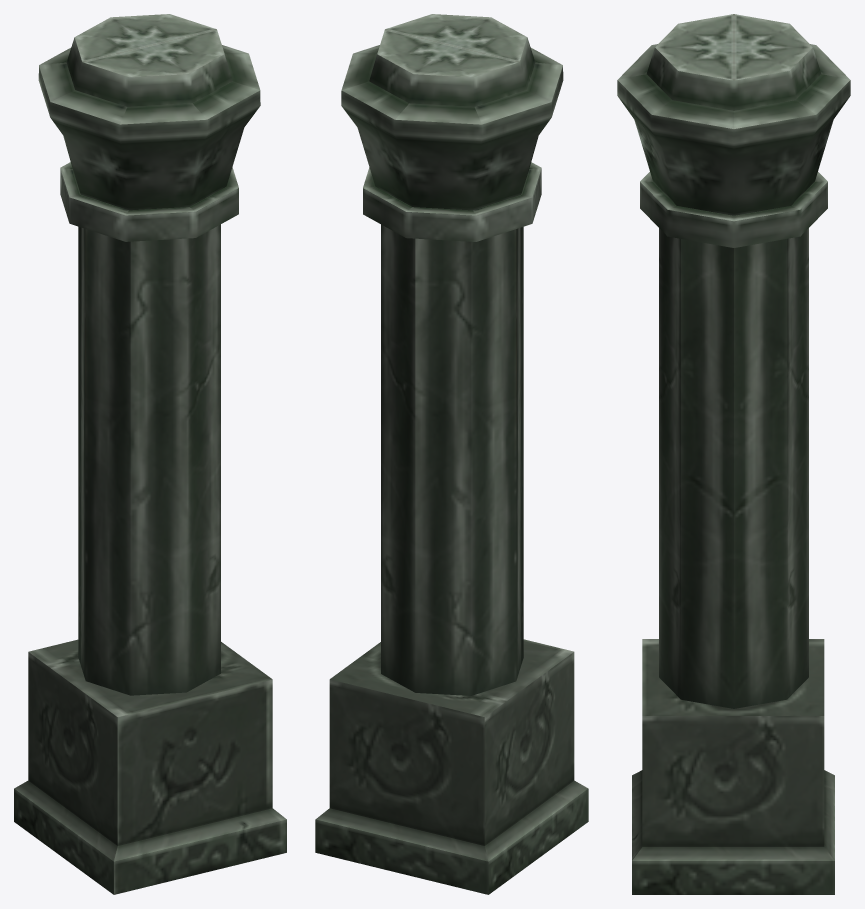
File: tlfb2_zhuzi05.FBX
3 renders of one model, left to right at view 1: azimuth 30°, elevation 25°; view 2: azimuth 150°, elevation 25°; view 3: azimuth 270°, elevation 25°, orthographic.
Visible parts, largest first — view 1: tlfb2_zhuzi05; view 2: tlfb2_zhuzi05; view 3: tlfb2_zhuzi05.
Part boxes in pixels (<box>): tlfb2_zhuzi05: <box>14,14,286,894</box>; tlfb2_zhuzi05: <box>315,14,588,894</box>; tlfb2_zhuzi05: <box>617,14,850,894</box>.
Size of the model in its own units: 52.63 by 200 by 52.63.
